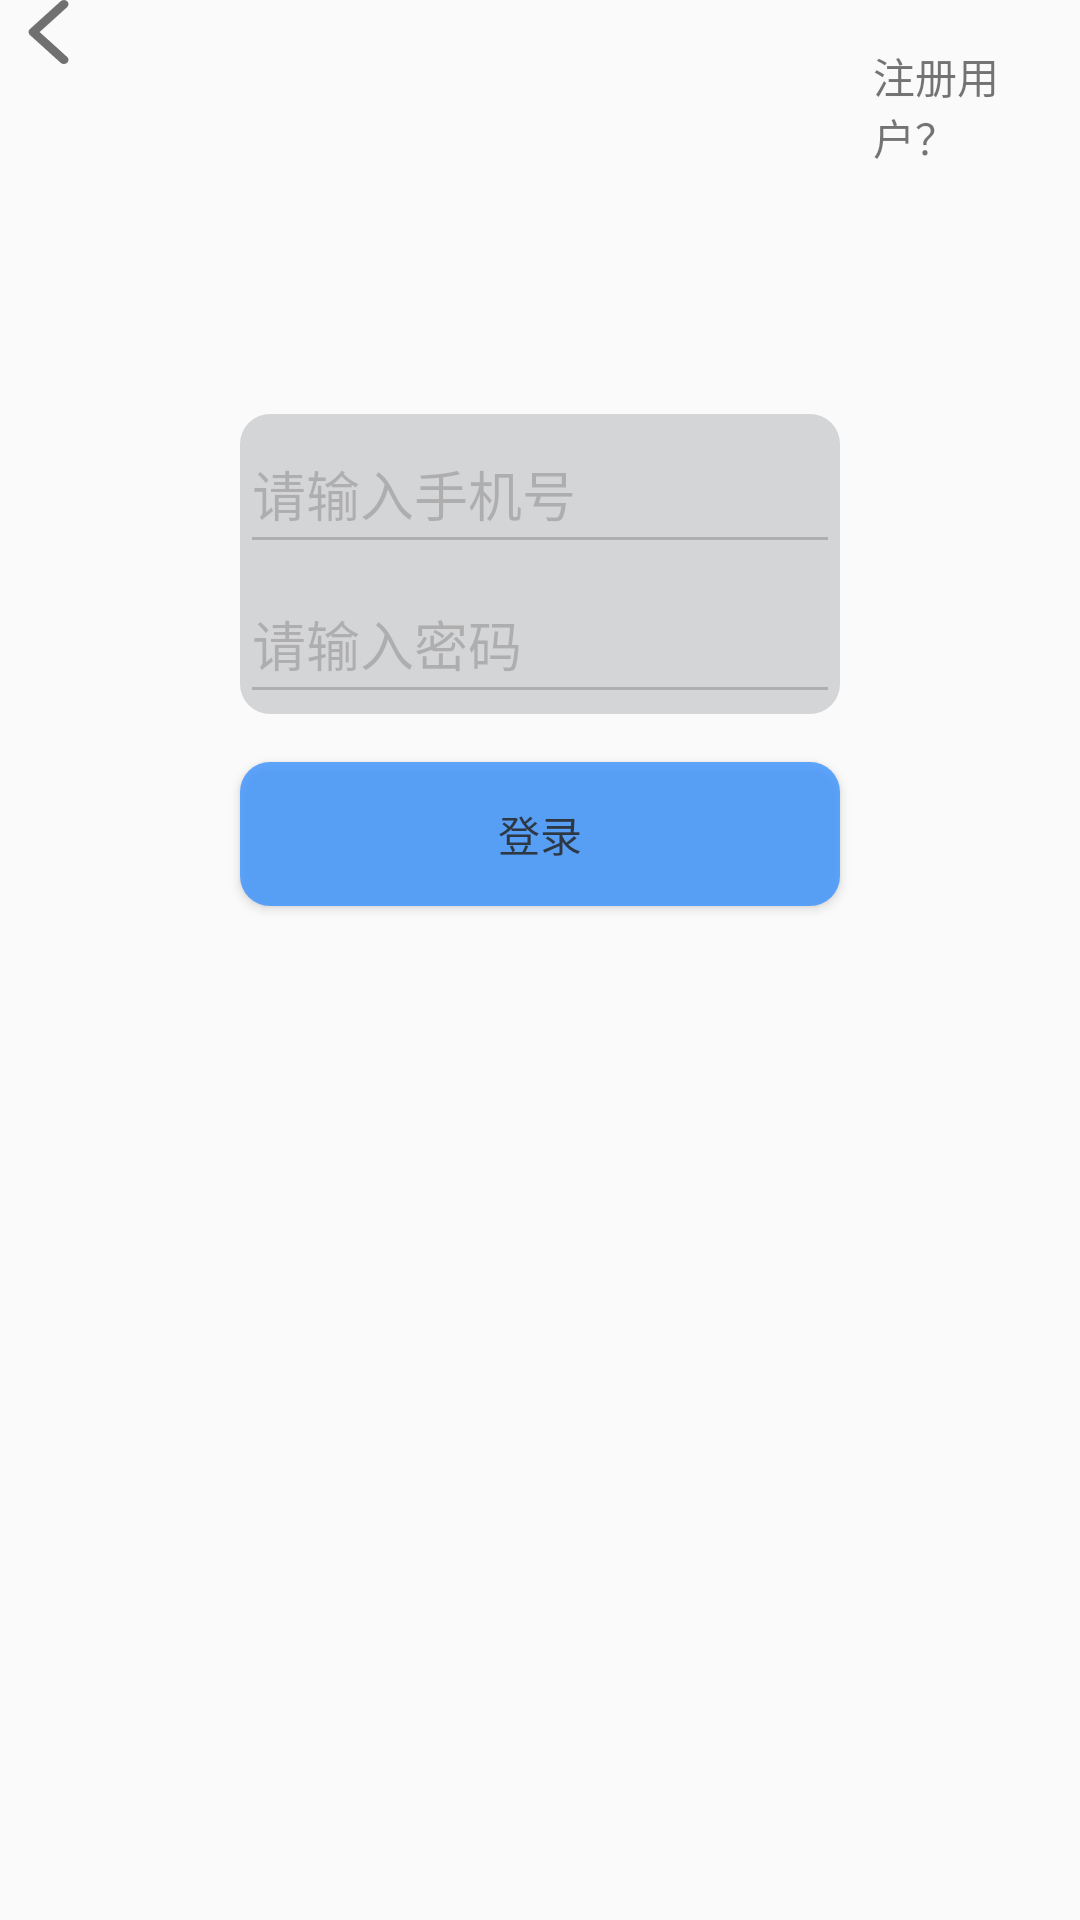

Screen size 1080x1920. Icon name, then its box in pixels as (x1, y1, x2, y2):
register return: (28, 0, 69, 64)
